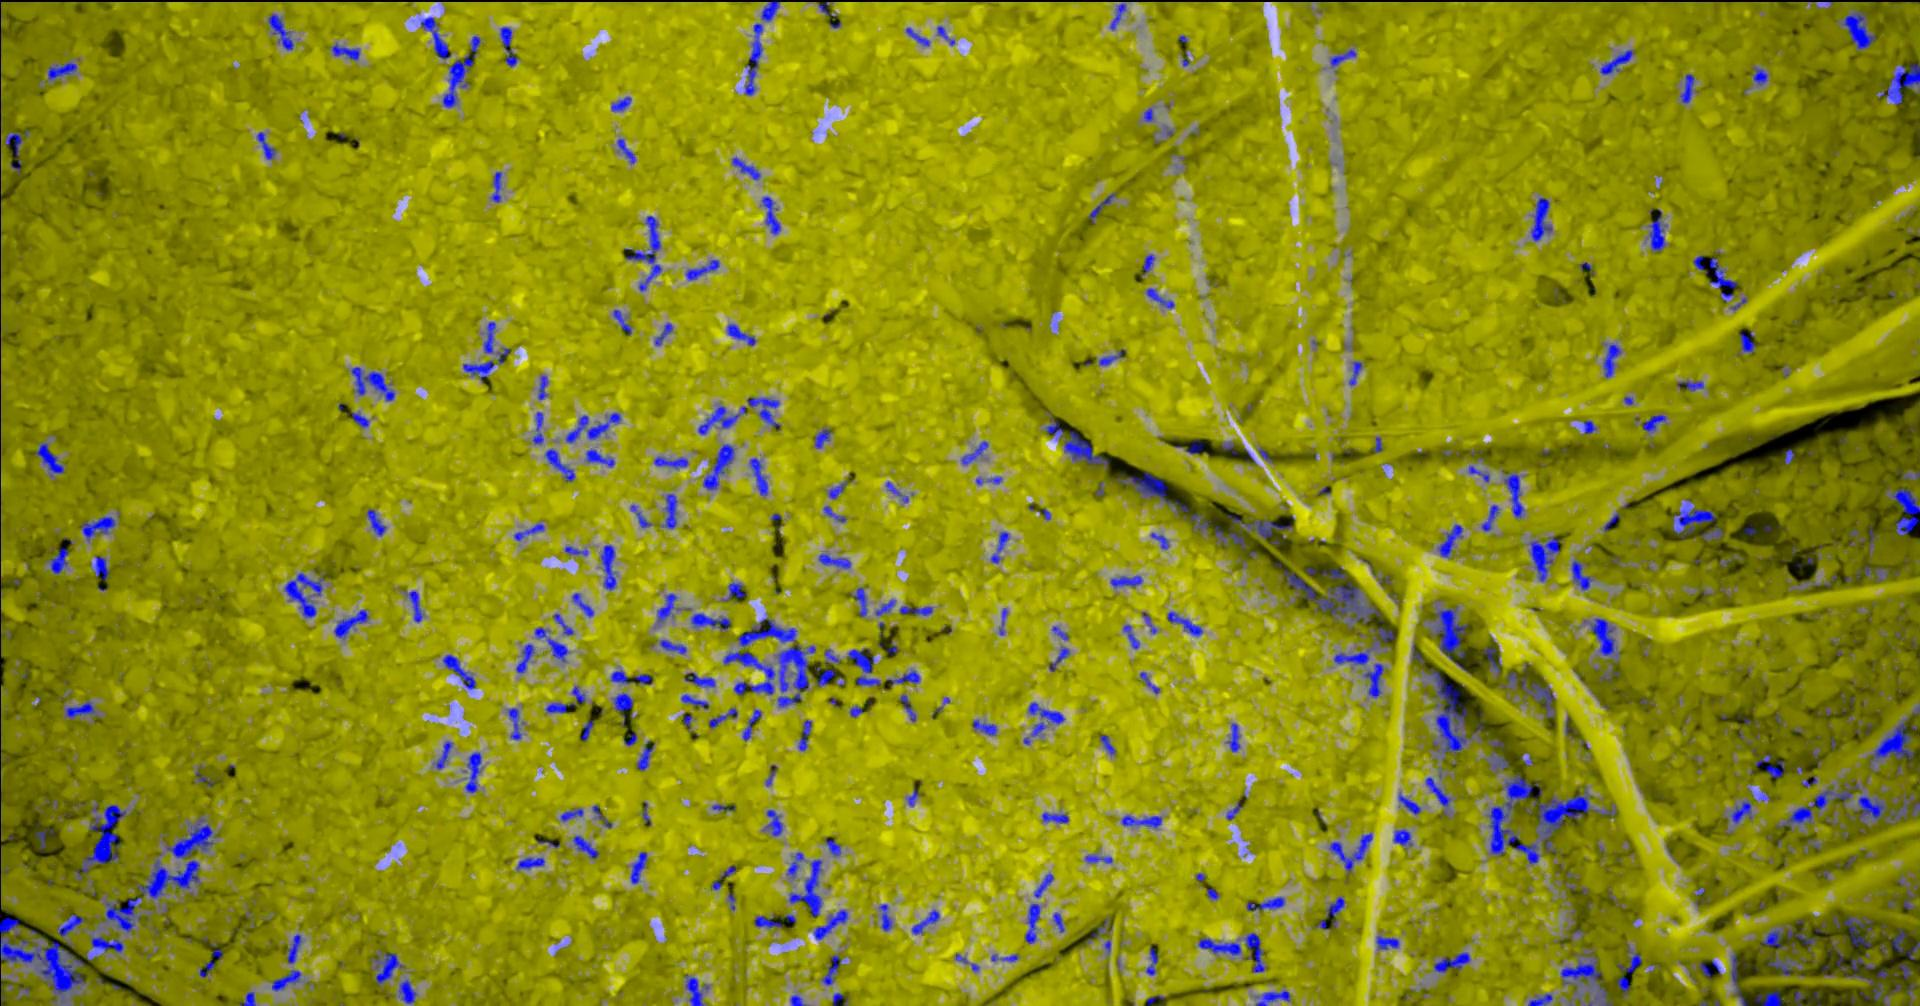ant: (1116, 471, 1213, 530), (1777, 782, 1859, 828), (1826, 942, 1888, 1002), (625, 215, 662, 291), (1559, 951, 1611, 1005), (442, 36, 480, 107), (1214, 514, 1291, 549), (1506, 663, 1554, 716), (1868, 716, 1919, 766), (1333, 626, 1394, 664), (1672, 499, 1723, 539), (789, 857, 822, 916), (1757, 920, 1815, 953), (283, 572, 324, 617), (1432, 606, 1467, 659), (166, 818, 212, 857), (1853, 795, 1919, 822), (1328, 832, 1371, 873), (1063, 429, 1109, 467), (462, 347, 509, 382), (565, 412, 620, 442), (1879, 64, 1919, 104), (350, 366, 394, 401), (702, 443, 734, 489), (697, 405, 745, 434), (1529, 536, 1559, 580), (1891, 486, 1919, 535), (1832, 915, 1873, 948), (744, 23, 762, 95), (420, 17, 451, 58), (1843, 10, 1876, 48), (1589, 619, 1620, 655), (545, 685, 585, 713), (535, 627, 569, 661), (442, 654, 475, 688), (747, 398, 780, 431), (1708, 251, 1737, 288), (4, 130, 27, 175), (543, 448, 574, 481), (34, 442, 63, 476), (813, 909, 847, 939), (333, 608, 368, 636), (1887, 929, 1919, 959), (1730, 951, 1747, 1005), (375, 951, 403, 984), (268, 14, 293, 50), (1530, 197, 1550, 241), (80, 516, 116, 541), (1167, 611, 1203, 636), (1503, 473, 1523, 518), (1599, 50, 1633, 74), (1425, 776, 1451, 807), (1088, 192, 1114, 224), (1244, 932, 1265, 972), (1437, 525, 1462, 558), (1432, 951, 1470, 972), (1754, 753, 1785, 777), (599, 544, 616, 589), (1027, 702, 1064, 723), (499, 25, 517, 67), (1197, 937, 1239, 955), (761, 196, 780, 234), (1650, 208, 1666, 251), (684, 259, 719, 279), (1363, 663, 1383, 697), (749, 457, 767, 495), (910, 909, 938, 934), (463, 752, 480, 793), (726, 323, 756, 345), (1603, 343, 1622, 377), (960, 439, 987, 464), (571, 835, 598, 859), (731, 156, 759, 179), (1571, 560, 1592, 589), (270, 969, 300, 991), (613, 692, 632, 725), (690, 614, 730, 629), (847, 648, 872, 672), (710, 865, 735, 889), (1768, 951, 1793, 976), (57, 913, 84, 936), (990, 531, 1010, 563), (65, 699, 97, 718), (1324, 895, 1343, 927), (684, 973, 703, 1005), (1023, 903, 1039, 942), (516, 643, 535, 673), (822, 954, 841, 984), (742, 709, 759, 741), (1145, 288, 1175, 307), (657, 593, 676, 622), (571, 592, 593, 617), (1255, 989, 1290, 1005), (257, 131, 276, 159), (1481, 647, 1500, 674), (709, 708, 737, 727), (1246, 895, 1284, 909), (406, 591, 423, 622), (630, 851, 646, 883), (1855, 565, 1890, 580), (1048, 647, 1069, 671), (1730, 799, 1751, 823), (1617, 951, 1641, 973), (585, 448, 615, 466), (636, 741, 654, 770), (612, 309, 631, 335), (366, 508, 385, 535), (50, 546, 69, 573), (513, 523, 543, 540), (886, 669, 919, 685), (90, 936, 123, 951), (1755, 989, 1788, 1005), (1121, 815, 1161, 828), (331, 42, 359, 60), (662, 493, 676, 528), (1032, 873, 1053, 897), (818, 553, 850, 568), (397, 979, 417, 1005), (47, 62, 76, 79), (850, 587, 866, 616), (1481, 504, 1498, 531), (1398, 793, 1420, 814), (1679, 72, 1694, 103), (885, 481, 908, 502), (630, 504, 650, 527), (684, 672, 715, 687), (1139, 671, 1159, 694), (899, 694, 916, 721), (436, 741, 452, 768), (905, 27, 930, 46), (764, 809, 782, 835), (507, 708, 521, 739), (1109, 3, 1125, 29), (1330, 50, 1356, 66), (552, 614, 573, 635), (1698, 959, 1719, 979), (617, 138, 635, 163), (797, 719, 811, 749), (531, 412, 543, 445), (971, 719, 997, 735), (786, 852, 803, 878), (759, 0, 778, 22), (592, 805, 611, 827), (287, 934, 301, 963), (654, 323, 672, 345), (483, 321, 495, 353), (1110, 575, 1142, 588), (1123, 624, 1139, 648), (653, 456, 687, 467), (681, 694, 709, 708), (1225, 723, 1239, 751), (1098, 349, 1124, 365), (815, 666, 834, 686), (1091, 918, 1111, 937), (724, 582, 745, 600), (1642, 414, 1665, 431), (823, 506, 846, 522), (659, 639, 686, 653), (877, 903, 891, 930), (1145, 946, 1158, 976), (94, 555, 109, 579), (36, 828, 53, 848), (1468, 465, 1490, 481), (754, 915, 782, 927), (490, 171, 502, 202), (936, 25, 954, 44), (1045, 418, 1063, 437), (828, 480, 847, 498), (196, 768, 215, 786), (1349, 361, 1363, 385), (610, 669, 634, 683), (1375, 935, 1399, 949), (1738, 332, 1755, 352), (814, 428, 830, 448), (1603, 511, 1619, 531), (1098, 734, 1115, 754), (1321, 567, 1346, 579), (516, 857, 543, 869), (875, 600, 895, 615), (1041, 812, 1068, 823), (610, 97, 631, 111), (1142, 611, 1156, 633), (899, 606, 932, 615), (1225, 800, 1241, 819), (560, 808, 583, 821), (1528, 993, 1552, 1005), (580, 719, 593, 741), (824, 838, 841, 855), (198, 960, 215, 977), (1752, 67, 1768, 85), (350, 412, 368, 427), (1150, 532, 1168, 547), (1393, 829, 1411, 845), (1183, 439, 1203, 453), (1617, 976, 1630, 995), (1142, 254, 1154, 274), (1677, 380, 1703, 390), (1051, 912, 1064, 932), (1084, 854, 1112, 862), (990, 953, 1018, 962), (537, 375, 547, 399), (1903, 890, 1916, 909), (824, 648, 839, 663), (1492, 754, 1509, 768), (239, 991, 255, 1005), (855, 676, 880, 685), (1030, 721, 1045, 735), (1051, 626, 1068, 639), (1898, 963, 1911, 979), (830, 992, 847, 1005), (564, 546, 587, 555), (210, 942, 222, 958), (1582, 420, 1596, 433), (850, 704, 863, 716), (1783, 448, 1794, 464), (635, 673, 651, 683), (790, 995, 806, 1005), (1693, 255, 1703, 271), (711, 804, 735, 810), (1143, 107, 1153, 121)
